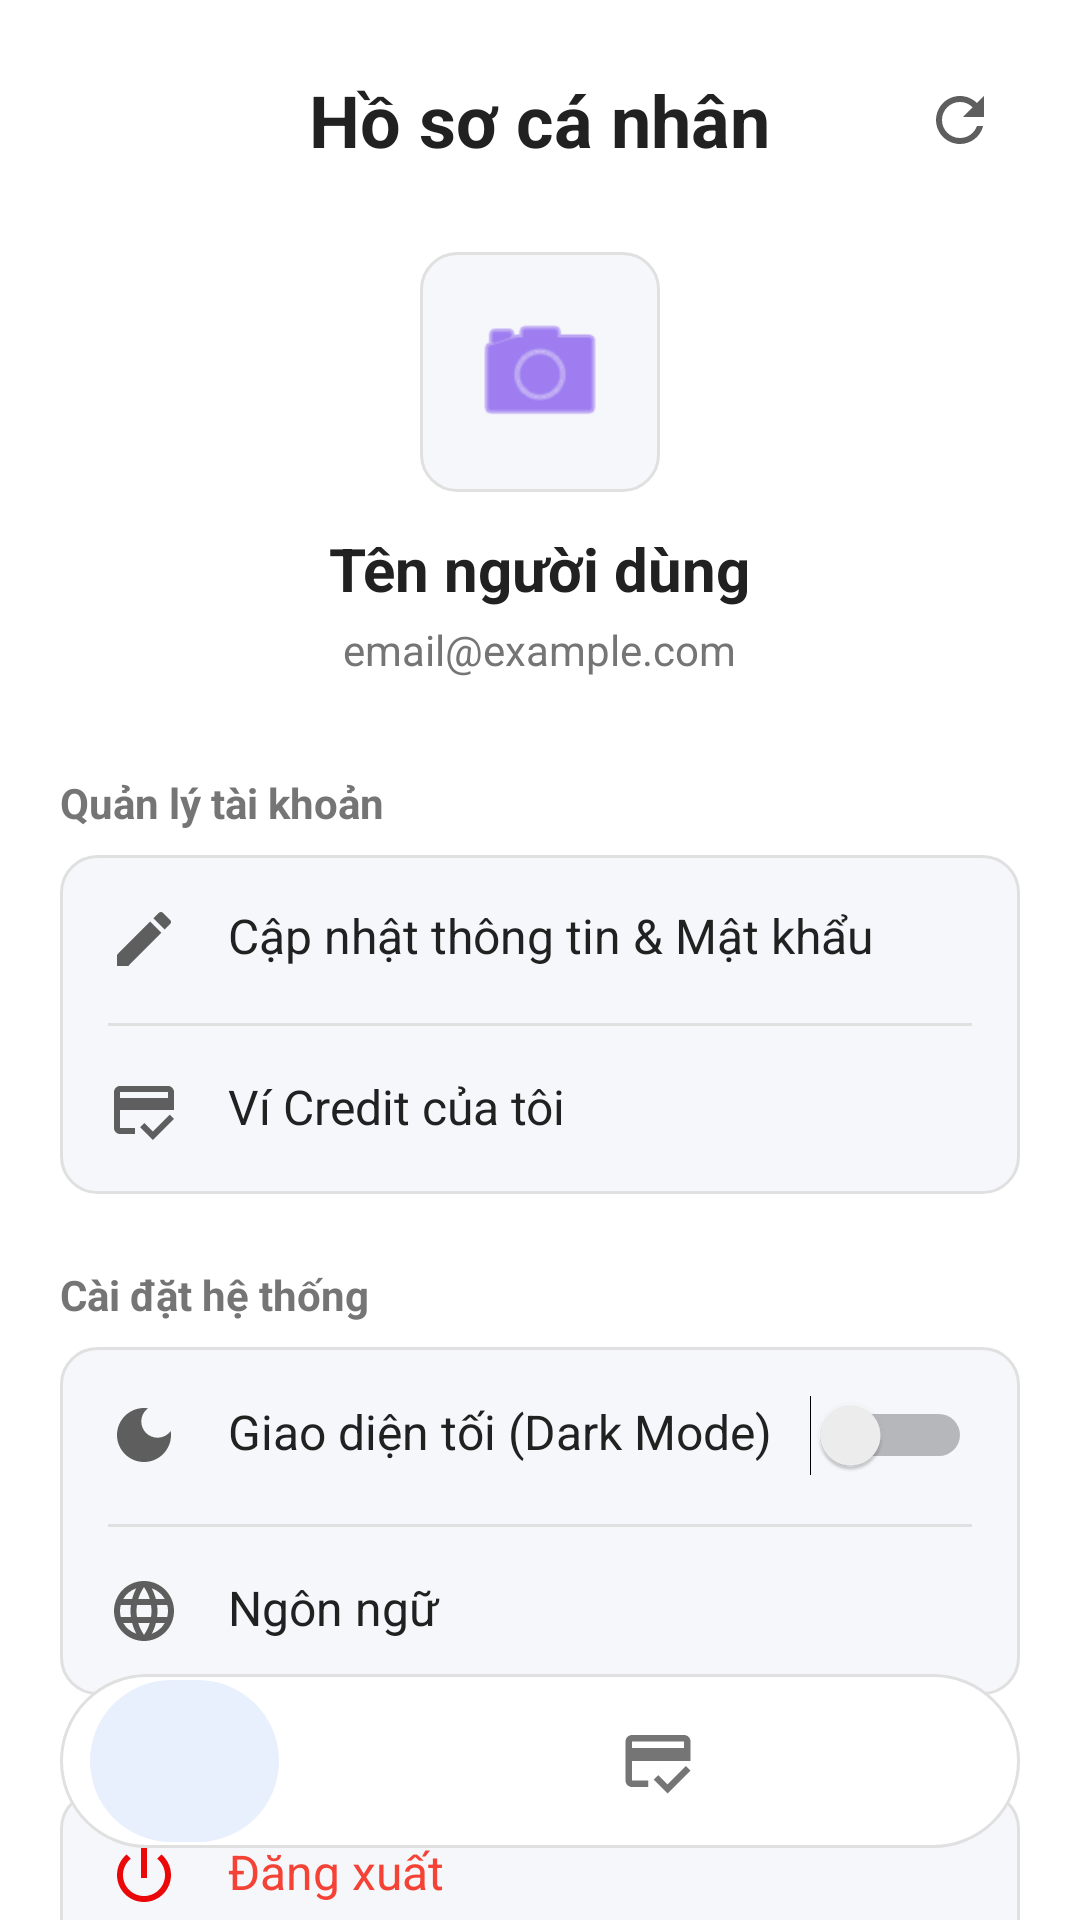

Icon bounding boxes for this 1080px×1920px phone screenshot, format {"left": x1, "top": y1, "right": x2, "bottom": y2}:
camera: {"left": 420, "top": 252, "right": 660, "bottom": 492}
refresh: {"left": 936, "top": 96, "right": 984, "bottom": 144}
